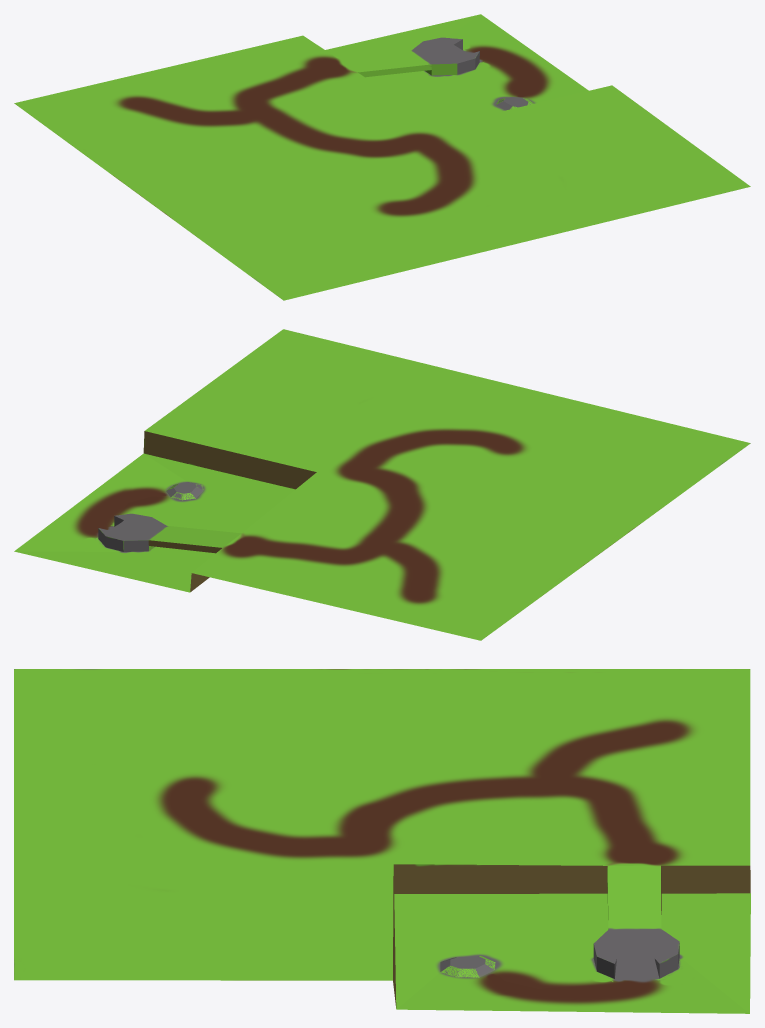
Rendered from FloorTextures.fbx.
3 views of the same model, one above another, from view 1: azimuth 30°, elevation 25°; view 2: azimuth 150°, elevation 25°; view 3: azimuth 270°, elevation 25° (orthographic). The views are drawn at different scales.
Visible parts, largest first — view 1: floor; view 2: floor; view 3: floor.
Boxes of the visible parts, x1,y1,x2,y2 form: floor: (14, 14, 750, 300); floor: (14, 329, 750, 640); floor: (14, 669, 750, 1013).
Bounding box in the file's own units: 8000 × 420 × 8006.
Materials: 1 (1 with a texture image).
